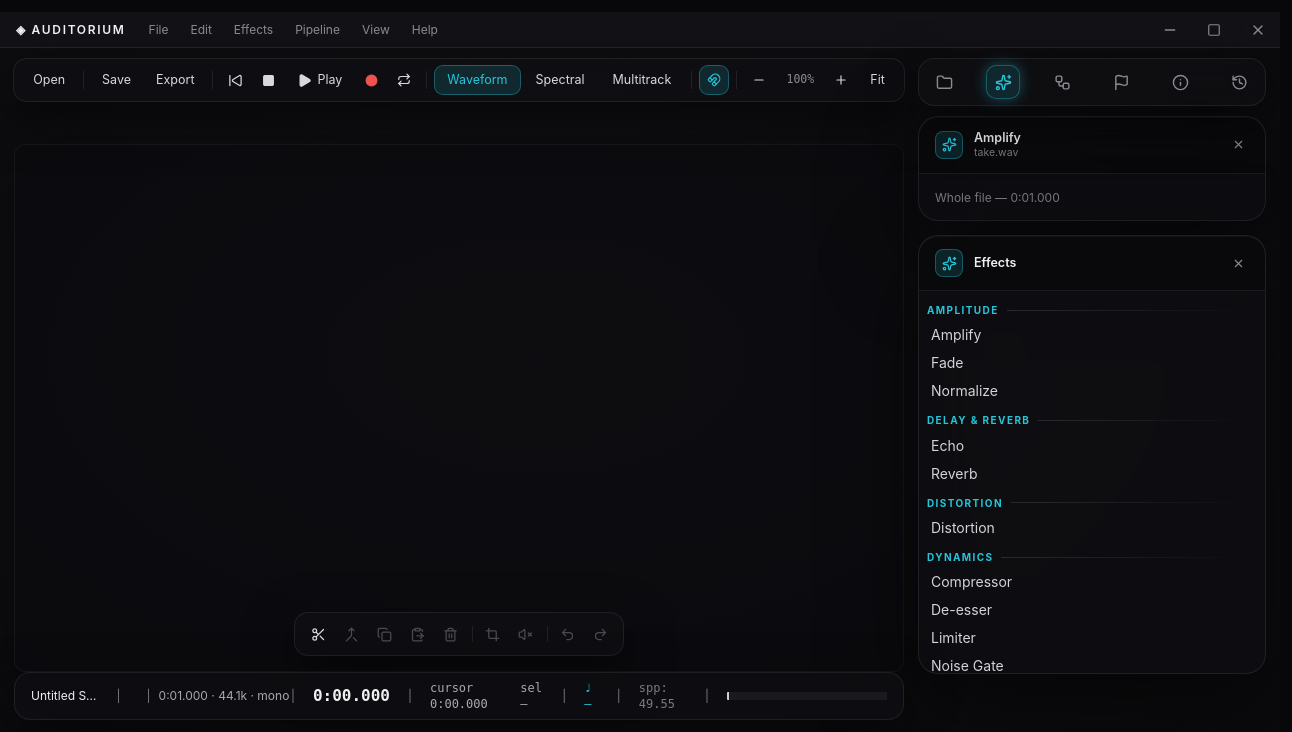
it: an effect opens in the module column, not over the stage › W1 and the stage inset: the strip, the card and the module card share one width
Click the button with test id "sidebar-panel-close": point(1238, 263) [1227,252,1249,274]
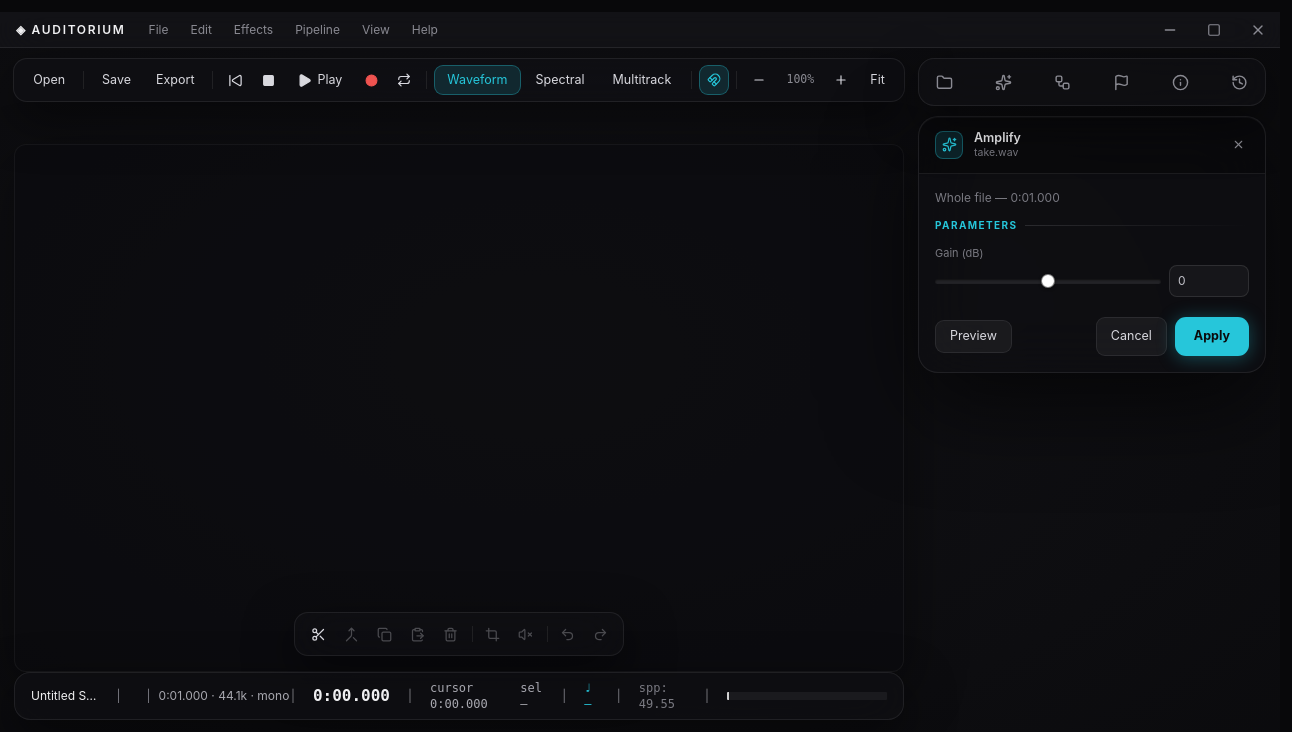
Expected: the element with test id "effect-host" is shown, [918,116,1266,373]
Now the element with test id "sidebar-panel" is gone
Click the button with test id "hosted-tool-close": point(1238, 145) [1227,134,1249,156]
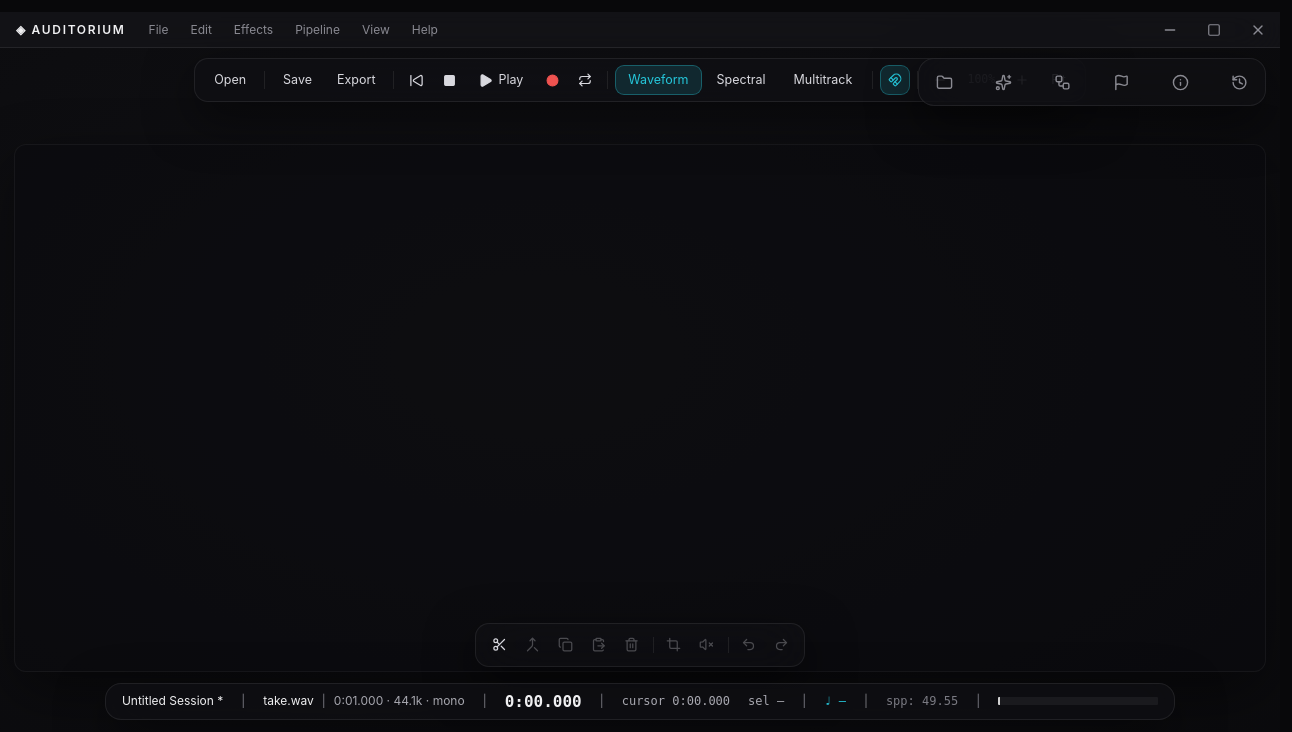
Now the element with test id "effect-host" is gone
